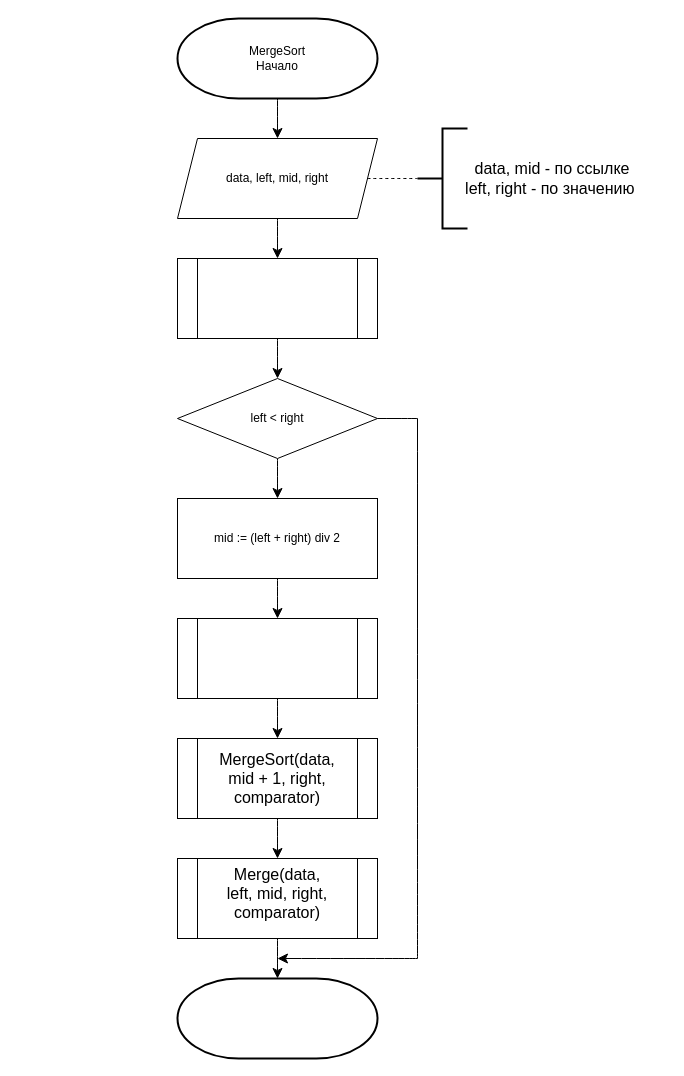
Some shapes in this 684 by 1076 pixel diagram are drawn without their labels. The centre of each missing label's shape, as x and y in pixels:
comparator: the point at 277,298
MergeSort Конец: the point at 277,1018
MergeSort(data, left, mid, comparator): the point at 277,658
